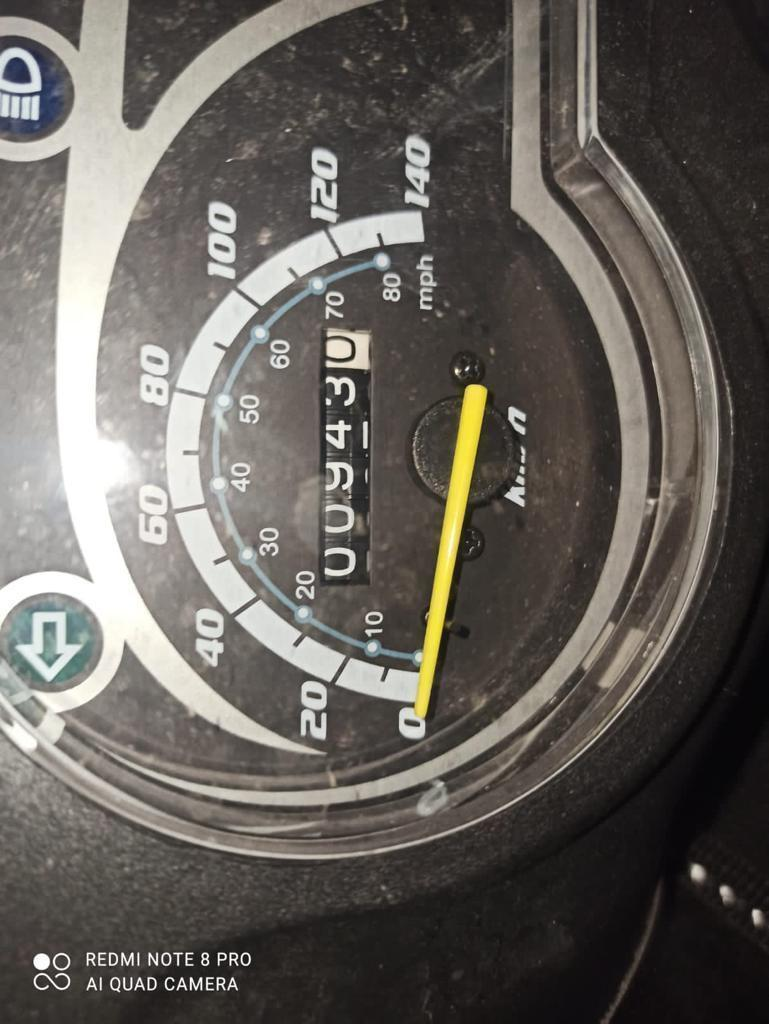0: (320, 500, 356, 536), (321, 543, 358, 578), (322, 333, 358, 364)
3: (320, 372, 360, 410)
4: (321, 415, 354, 452)
9: (321, 459, 357, 492)
odometer: (311, 322, 377, 589)
